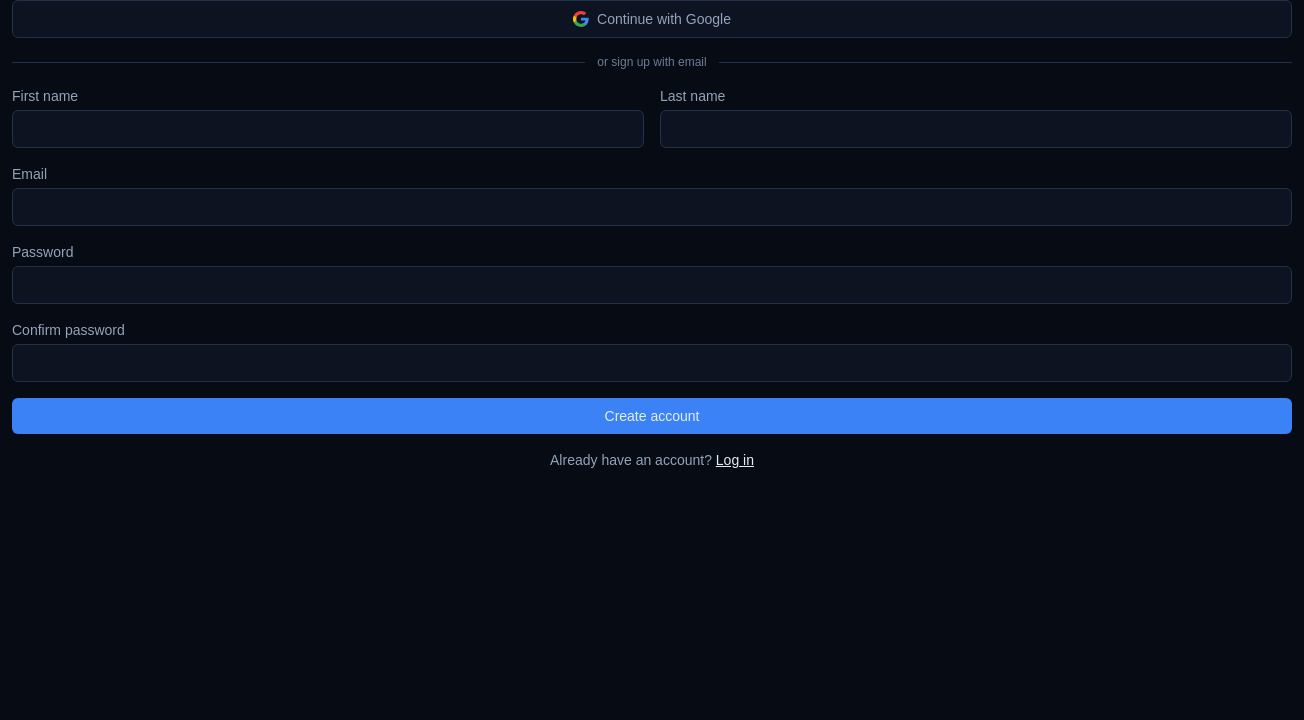
Test: RegisterForm › shows a top-level error message returned by the action
Type "jane@example.com" into the field labelled "Email".
click(652, 207); type("jane@example.com")  # box [12,188,1292,226]
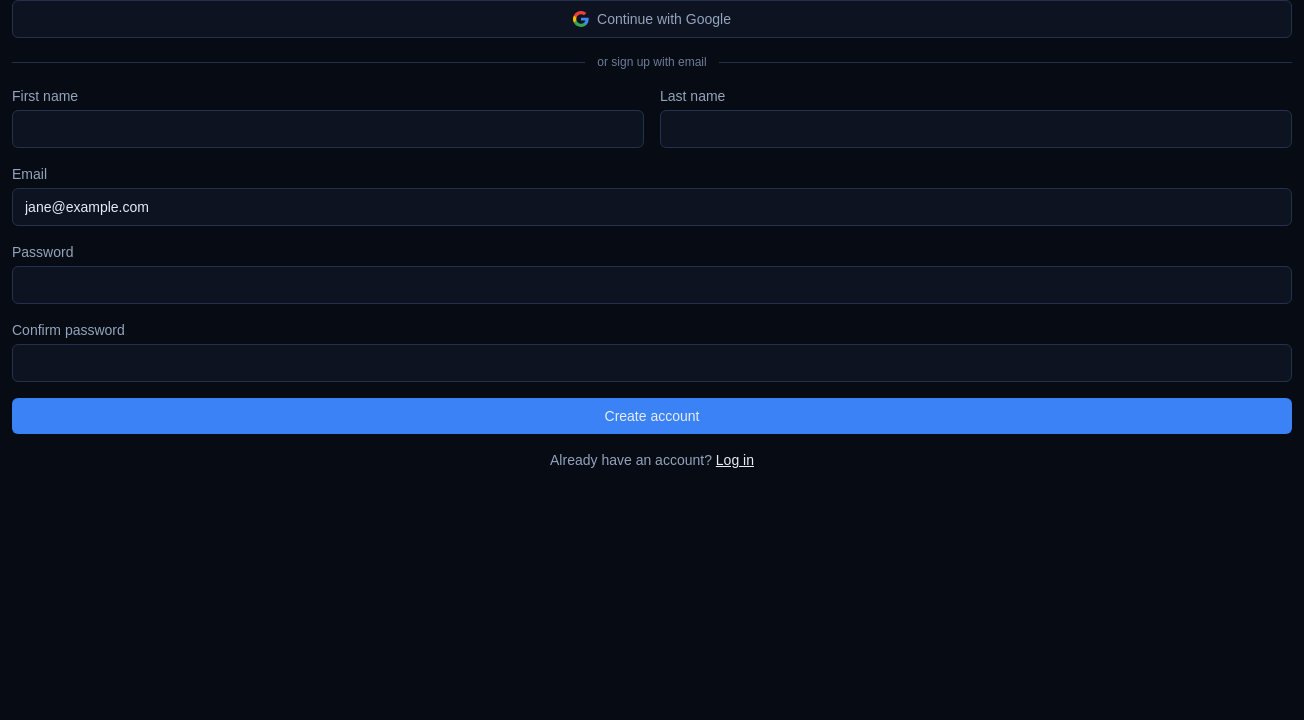
Type "StrongP@ss1" into the password field labelled "Password".
click(652, 285); type("StrongP@ss1")  # box [12,266,1292,304]
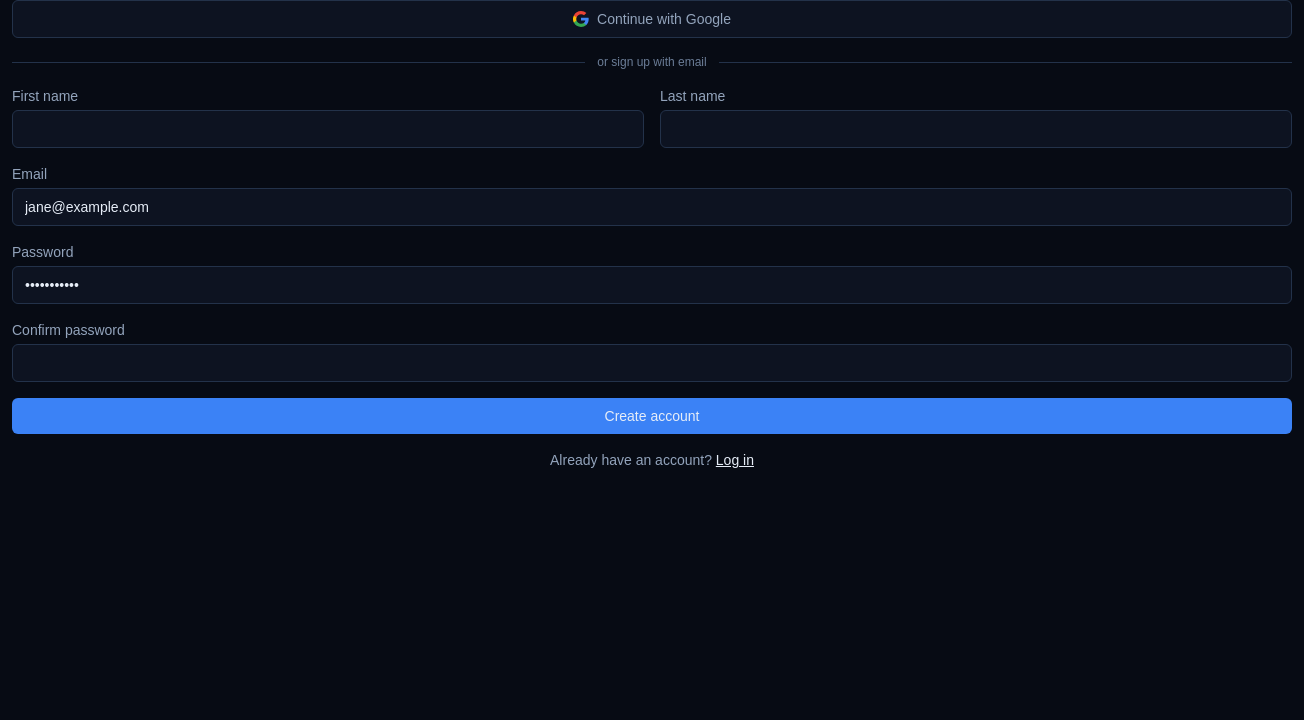
Type "StrongP@ss1" into the password field labelled "Confirm password".
click(652, 363); type("StrongP@ss1")  # box [12,344,1292,382]
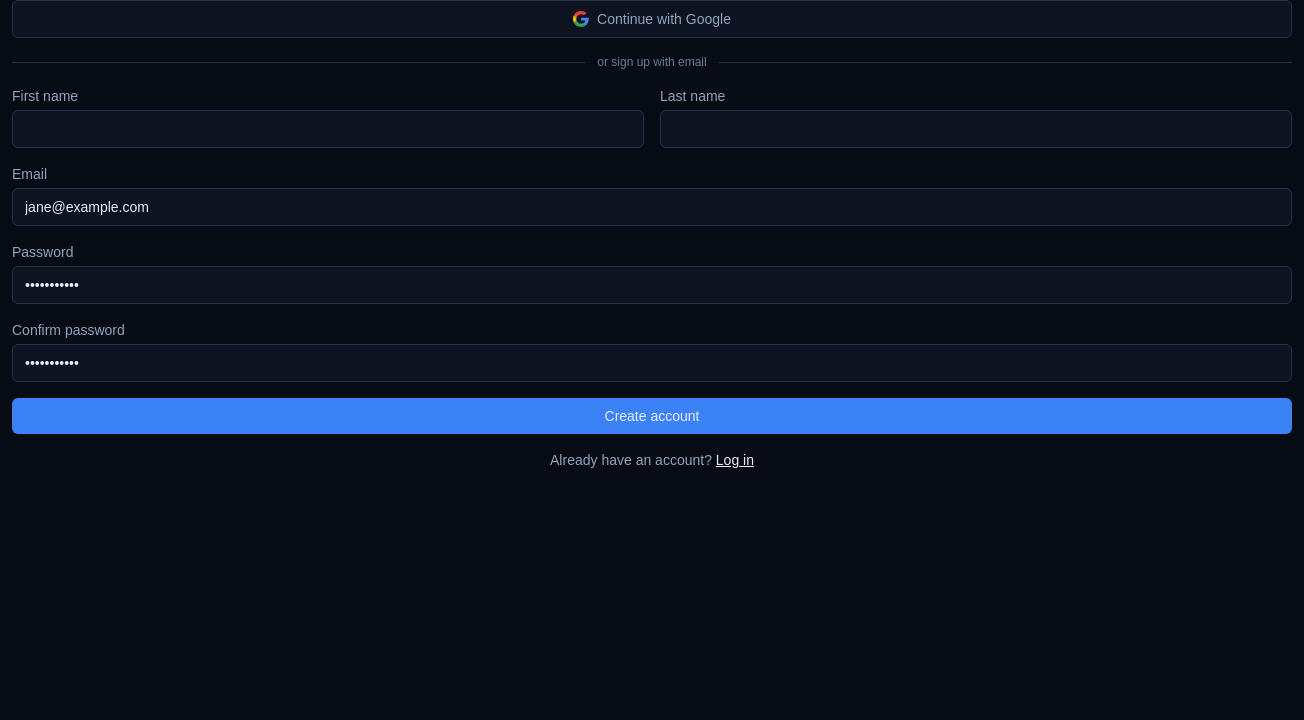
Click the button "Create account".
click(652, 416)  # box [12,398,1292,434]
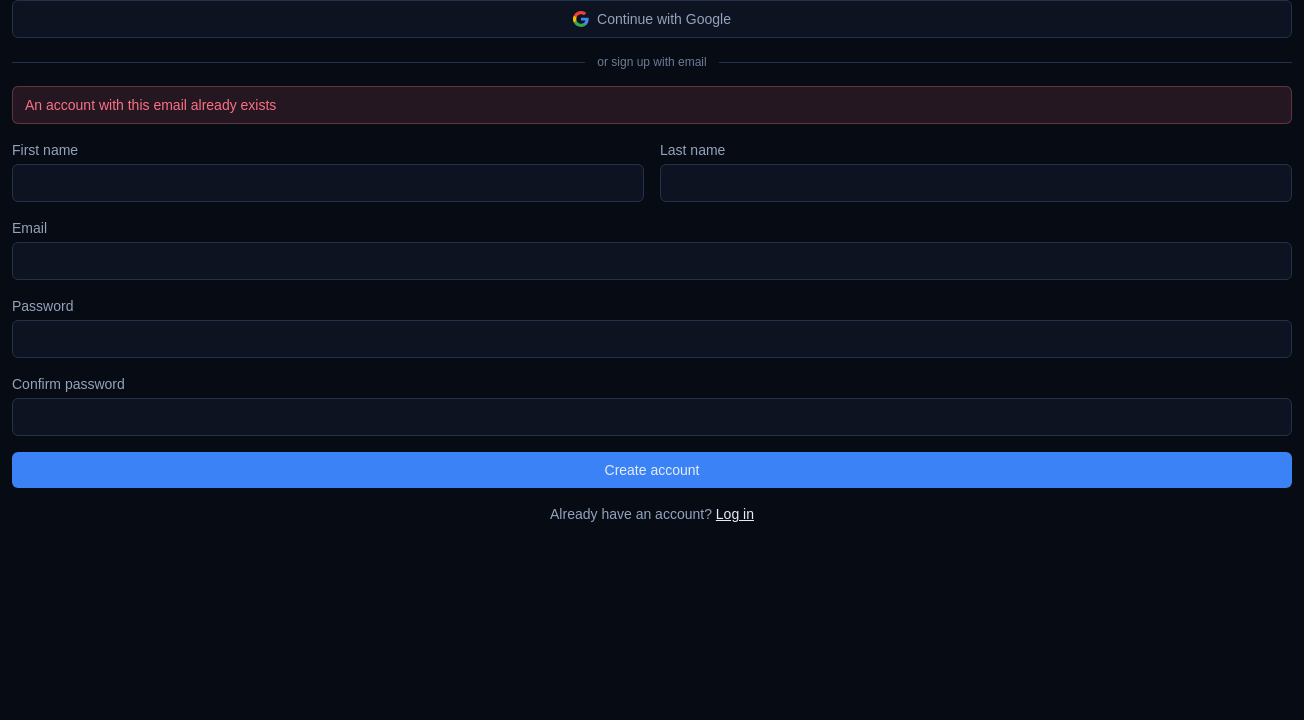
Result: the text "An account with this email already exists" is shown at [12,86,1292,124]
